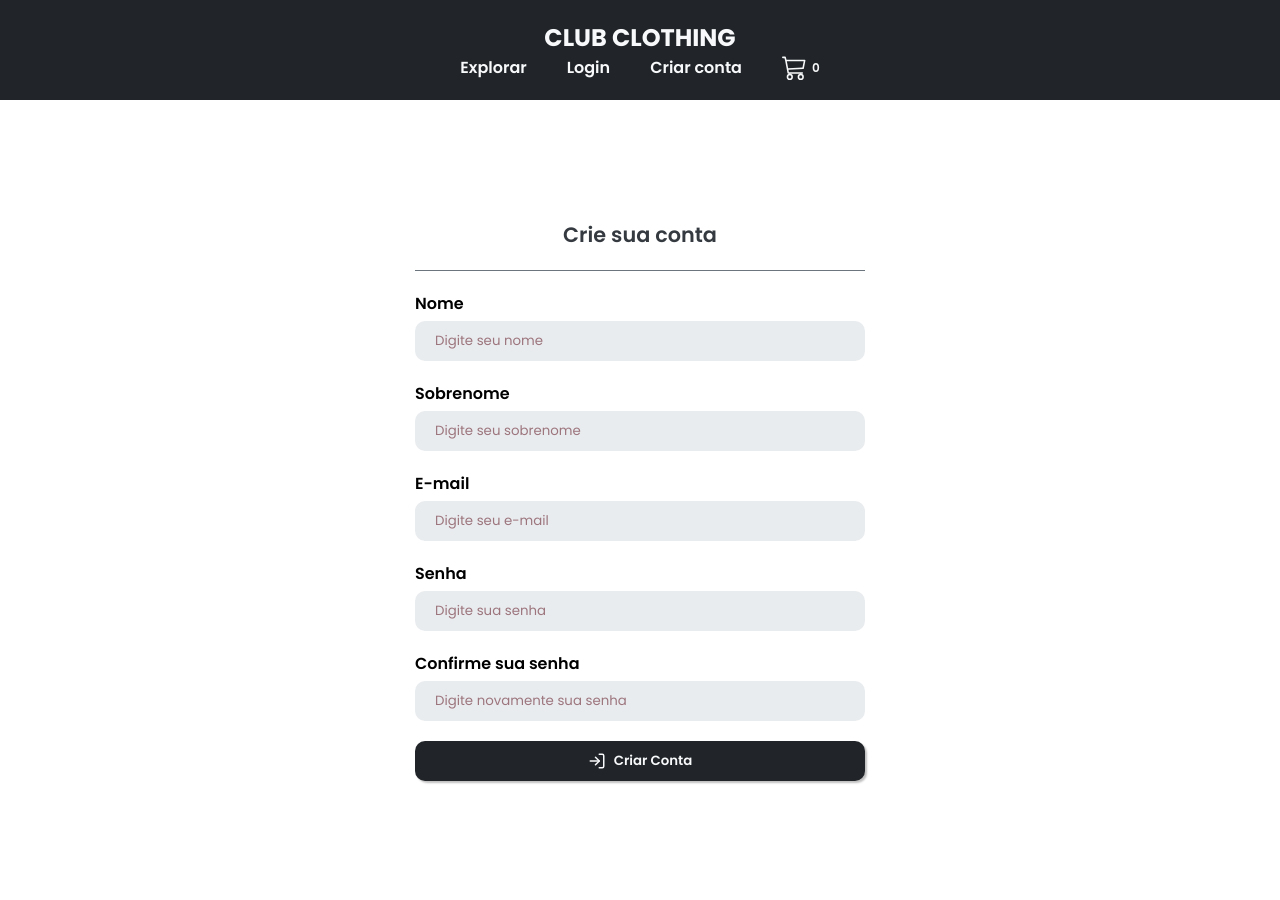
Scenario: Sign Up › should show error when trying to submit without filling all
The image size is (1280, 900).
Click the button "Criar Conta": {"x": 640, "y": 761} [415,741,865,781]
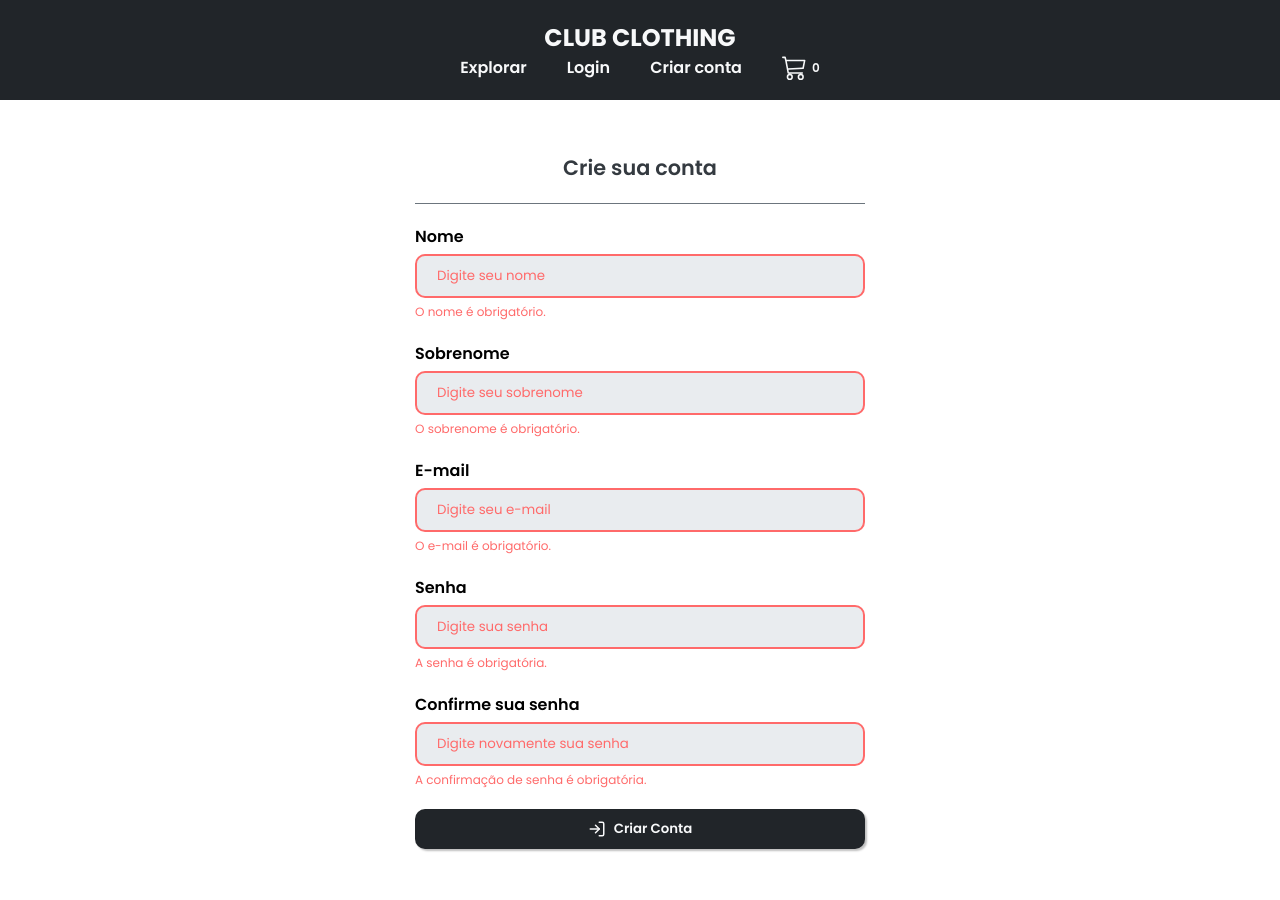
Check: the text "O nome é obrigatório." is shown, box [415,302,546,320]
Check: the text "O sobrenome é obrigatório." is shown, box [415,420,580,436]
Check: the text "O e-mail é obrigatório." is shown, box [415,536,551,554]
